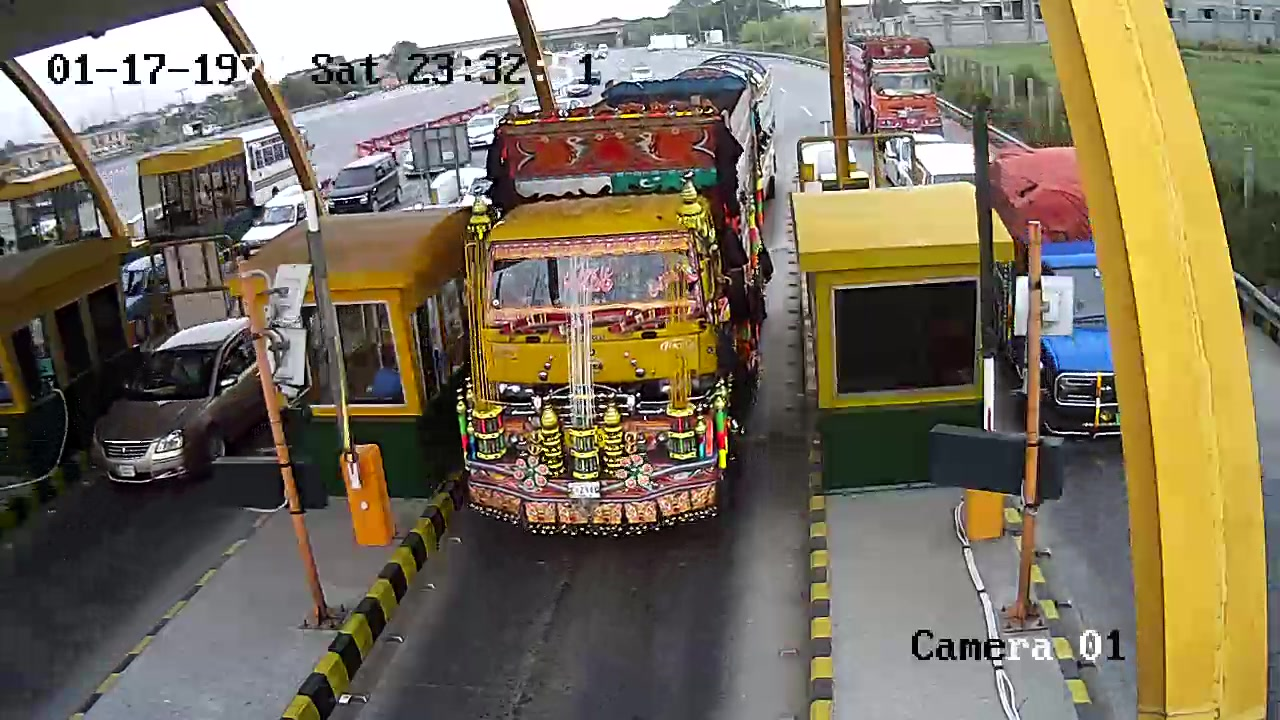F5: (437, 74, 775, 546)
